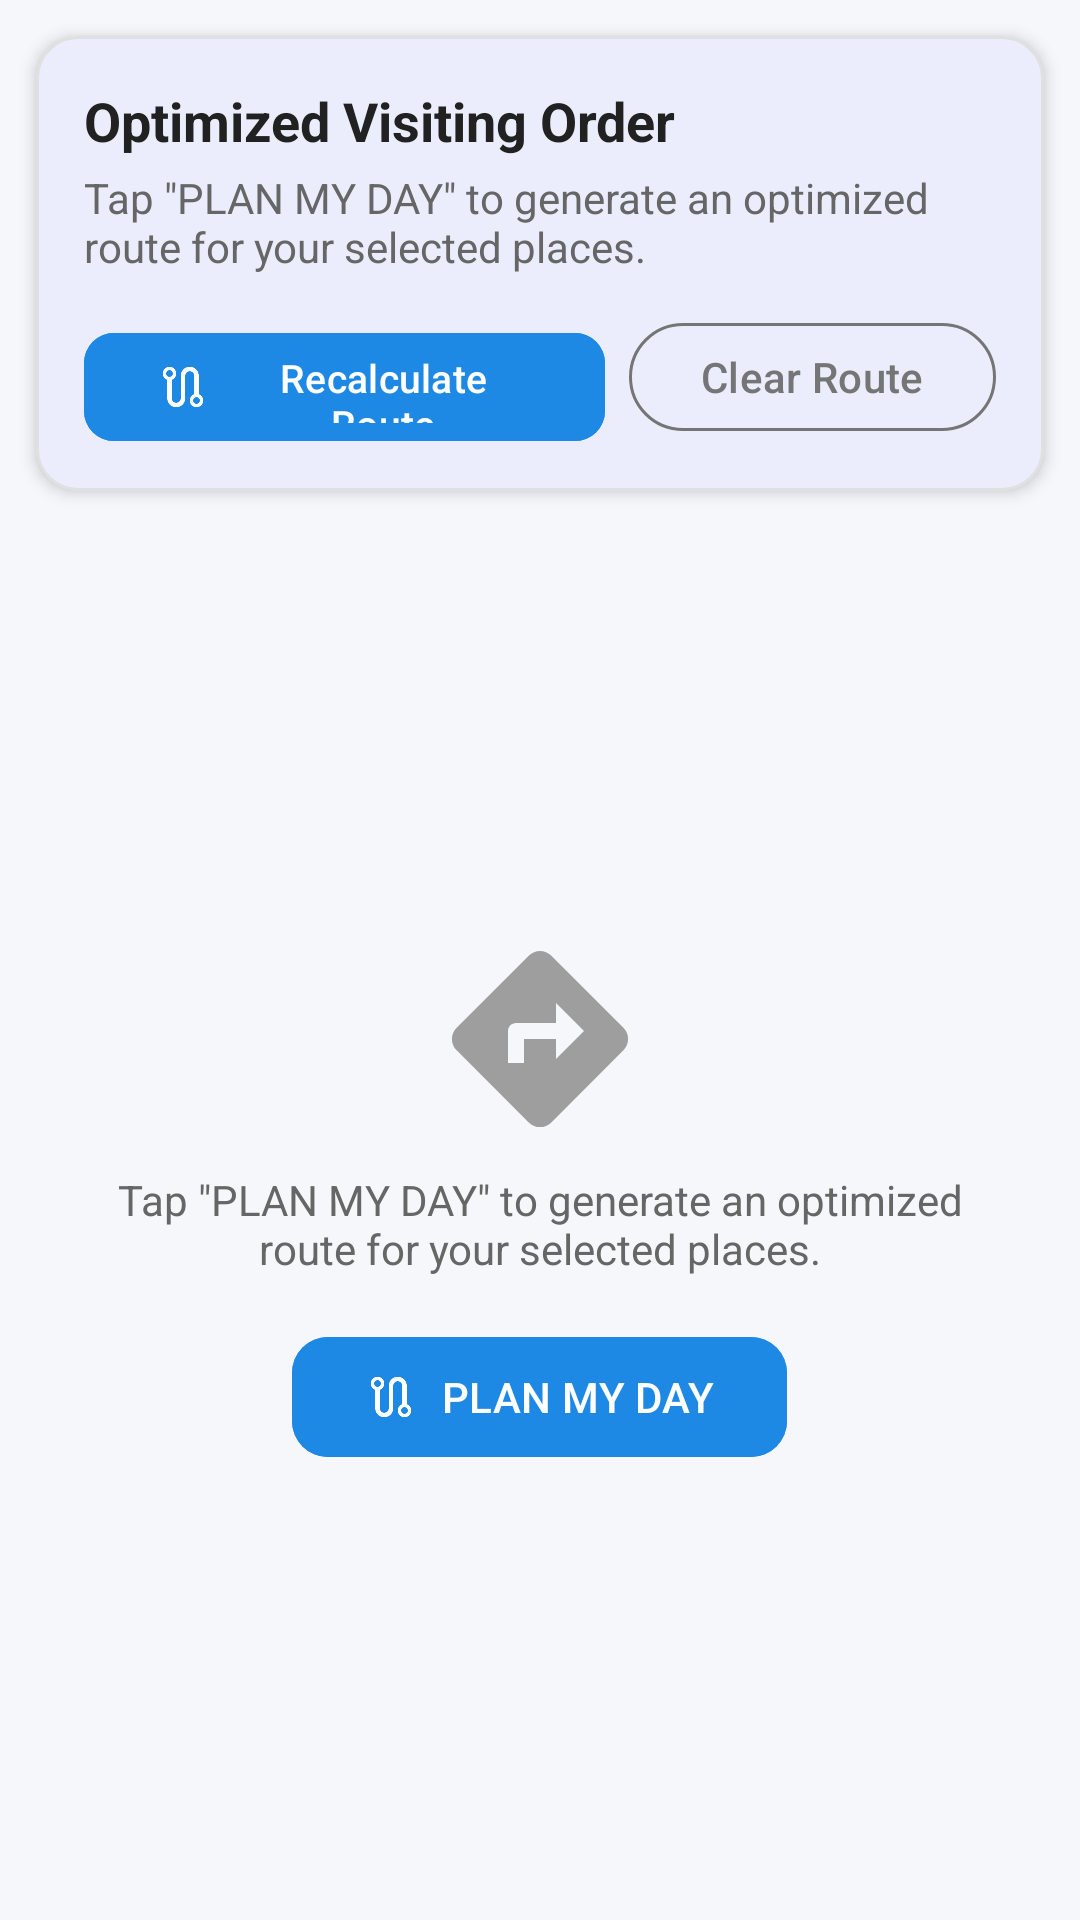

Icons on this 1080*1920 Android screen, each with the point to tap as point (x, y):
directions: point (540, 1039)
